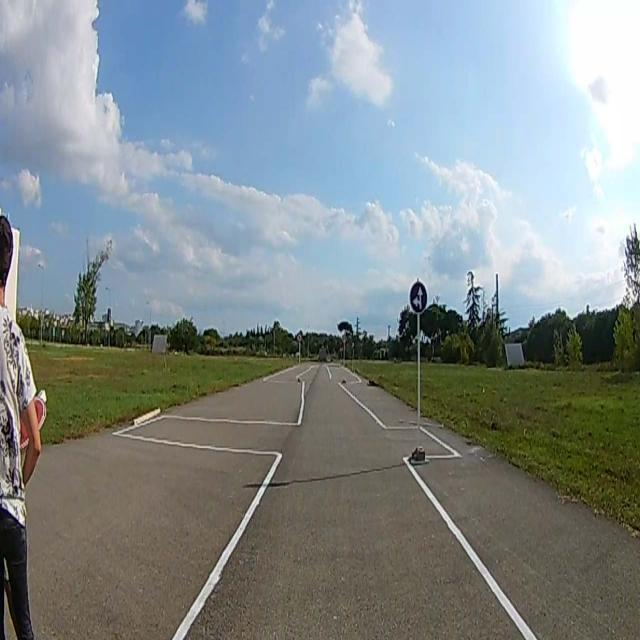ilerisol: (410, 282, 427, 314)
